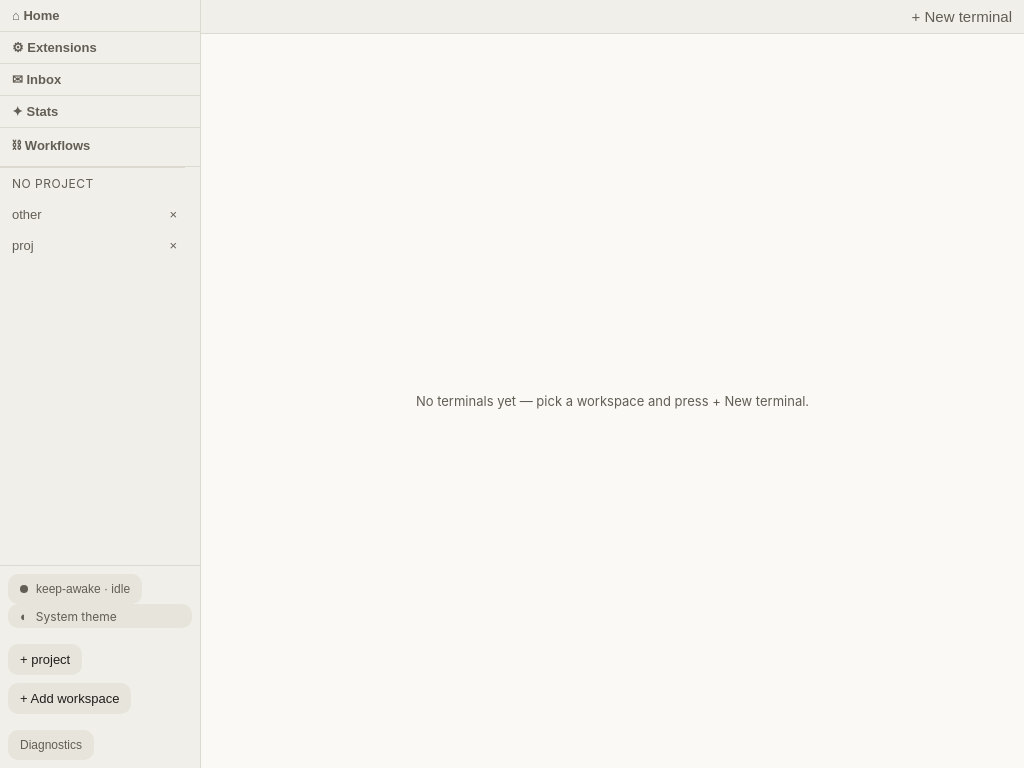
Test: T12: workspace view — stat chips + command strip + root-aware cwd › stat chips show correct live/waiting/exited/roots counts, scoped to the active workspace only
Click the button "proj": [81, 246] box [0,230,161,261]
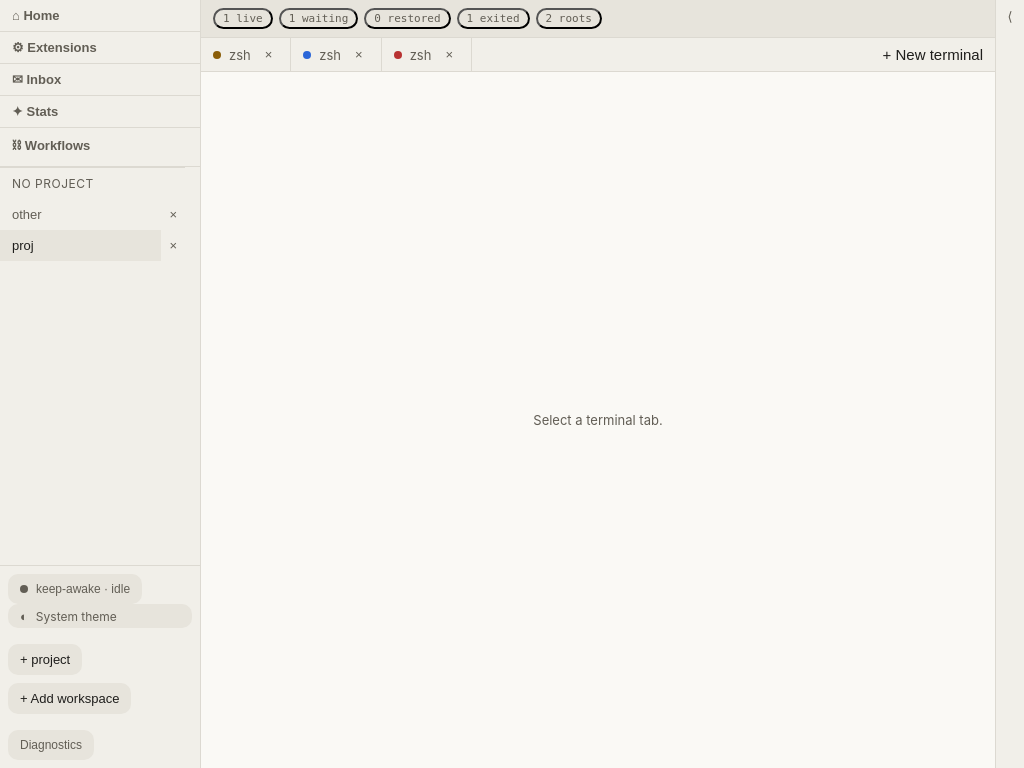
Expected: the element with test id "workspace-stats" is shown, [201,0,995,38]
Expected: the button with test id "workspace-stat-live" reads "1 live", [213,8,273,29]
Expected: the button with test id "workspace-stat-waiting" reads "1 waiting", [279,8,358,29]
